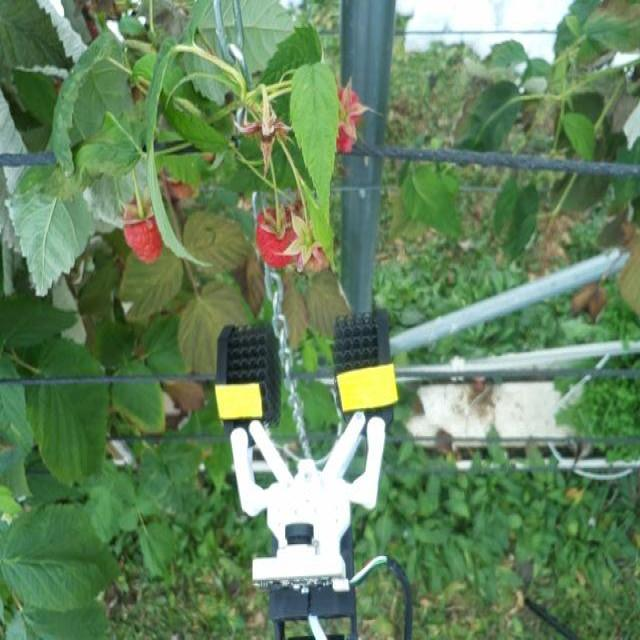Riped berries: (323, 82, 379, 157), (254, 203, 308, 267), (121, 199, 171, 262)
